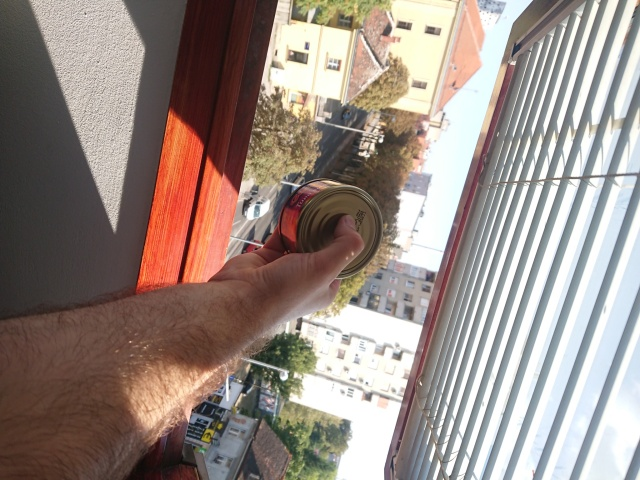Giana Tuna Salad Mexico 185g: (277, 177, 385, 281)
